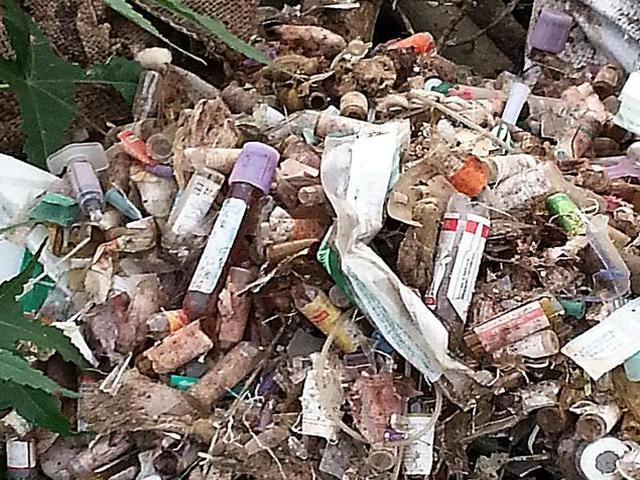garbage: (81, 90, 617, 466)
